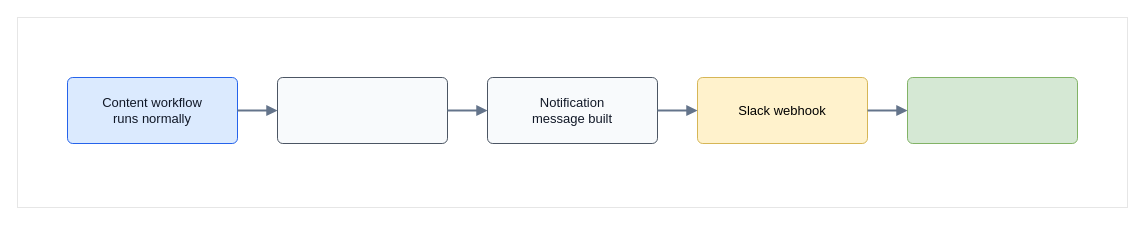
Some shapes in this 1145 by 225 pixel diagram are drawn without their labels. Here are the shapes that lost their labels. From the top down, the centre of each, then its label:
At (362,110): "Outputs saved blog/image/social".
At (992,110): "Slack channel receives status".
